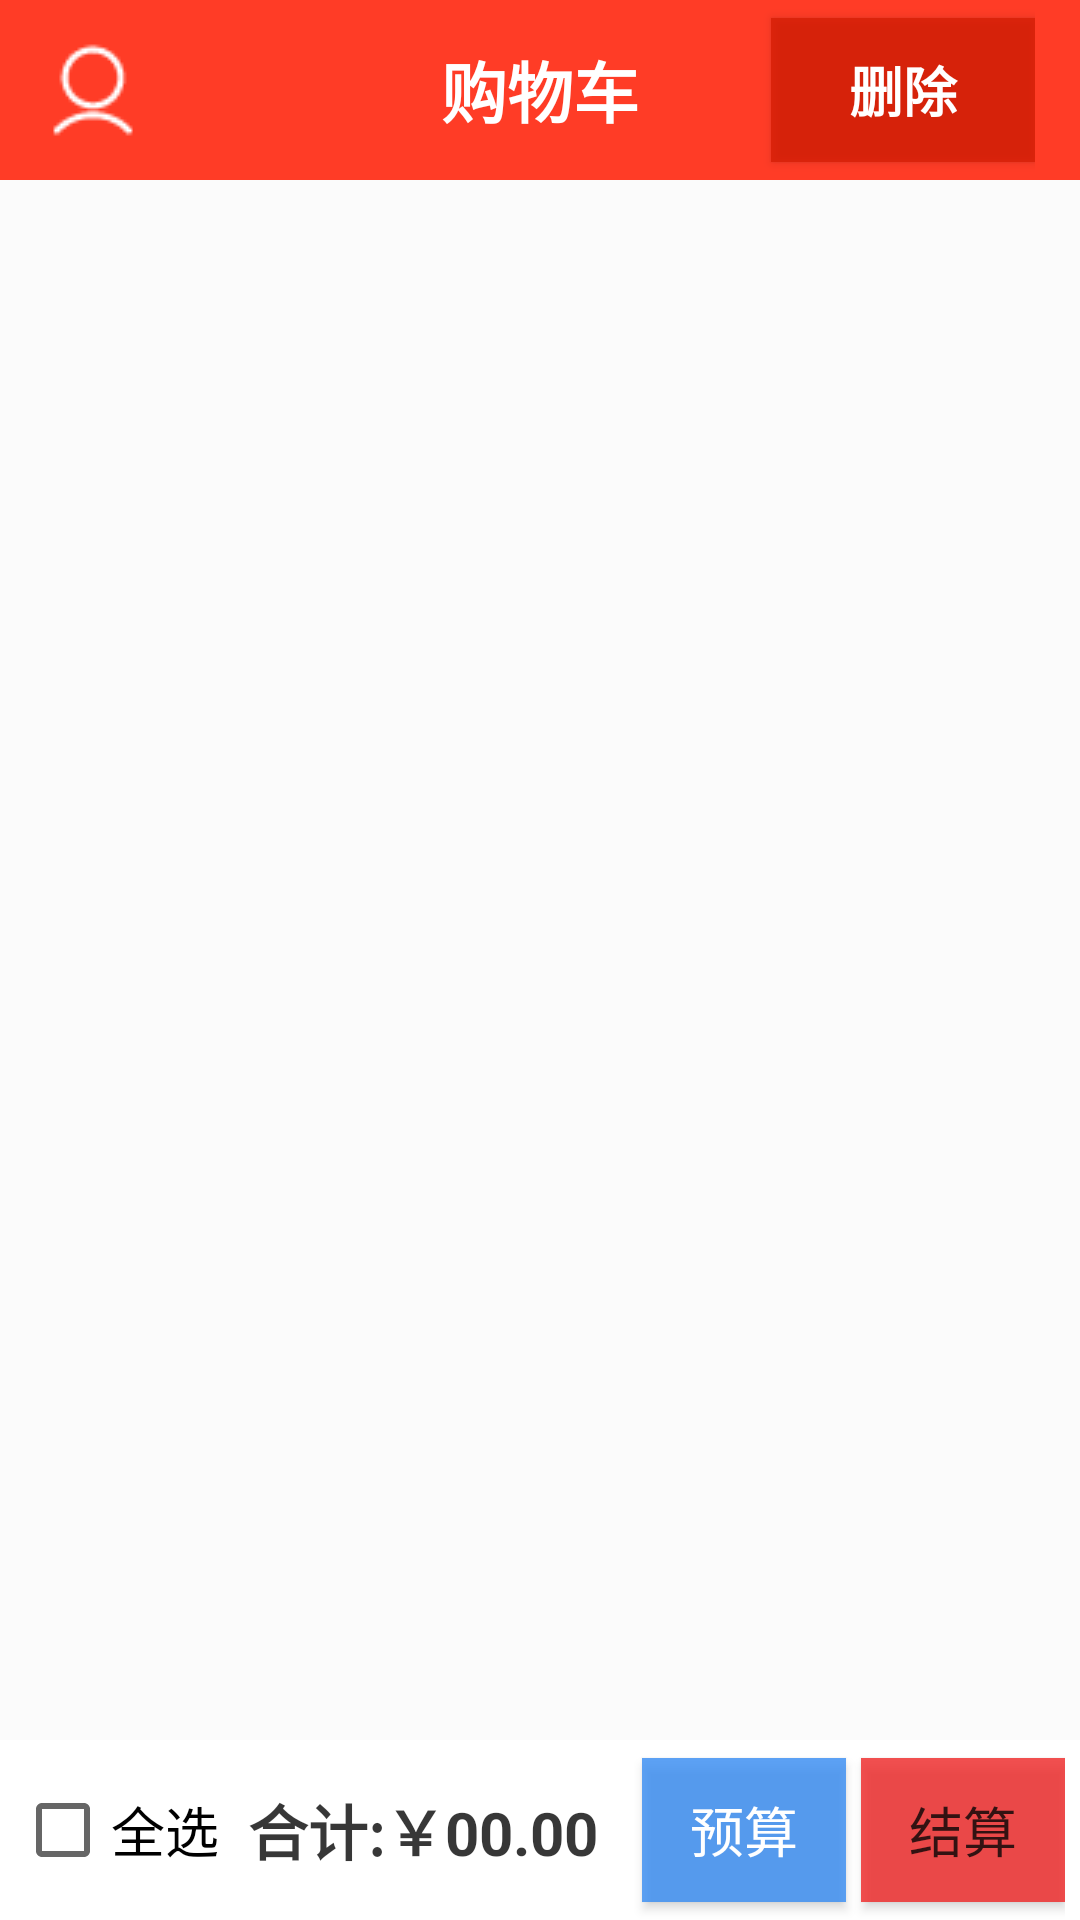

Named icons in this screenshot (1080x1920) and their bounding boxes, (x1, y1, x2, y2):
cart user: (53, 44, 133, 136)
